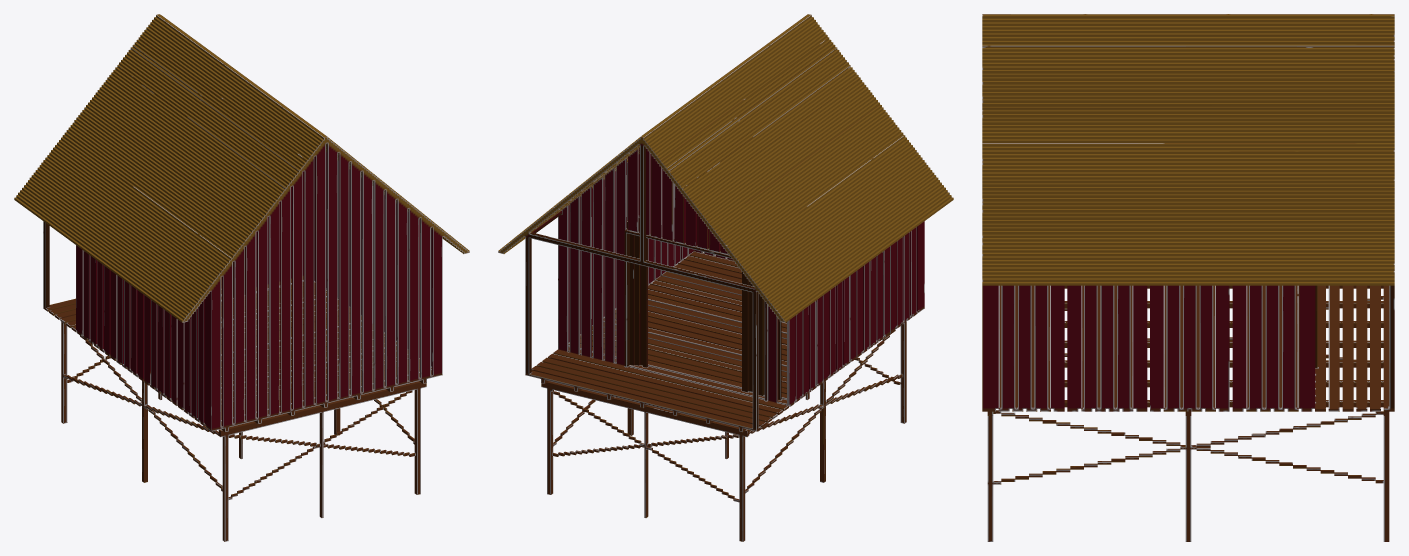
File: Palafita1.fbx
3 views of the same model, side by side, from view 1: azimuth 30°, elevation 25°; view 2: azimuth 150°, elevation 25°; view 3: azimuth 270°, elevation 25° (orthographic). The views are drawn at different scales.
Visible parts, largest first — view 1: Palafita1.001; view 2: Palafita1.001; view 3: Palafita1.001.
Part boxes in pixels (box(x1,y1,x2,y2)): Palafita1.001: box(14, 14, 469, 541); Palafita1.001: box(498, 14, 953, 541); Palafita1.001: box(982, 14, 1394, 541).
Bounding box in the file's own units: 14.8 × 18.8 × 15.
Materials: 1 (1 with a texture image).
